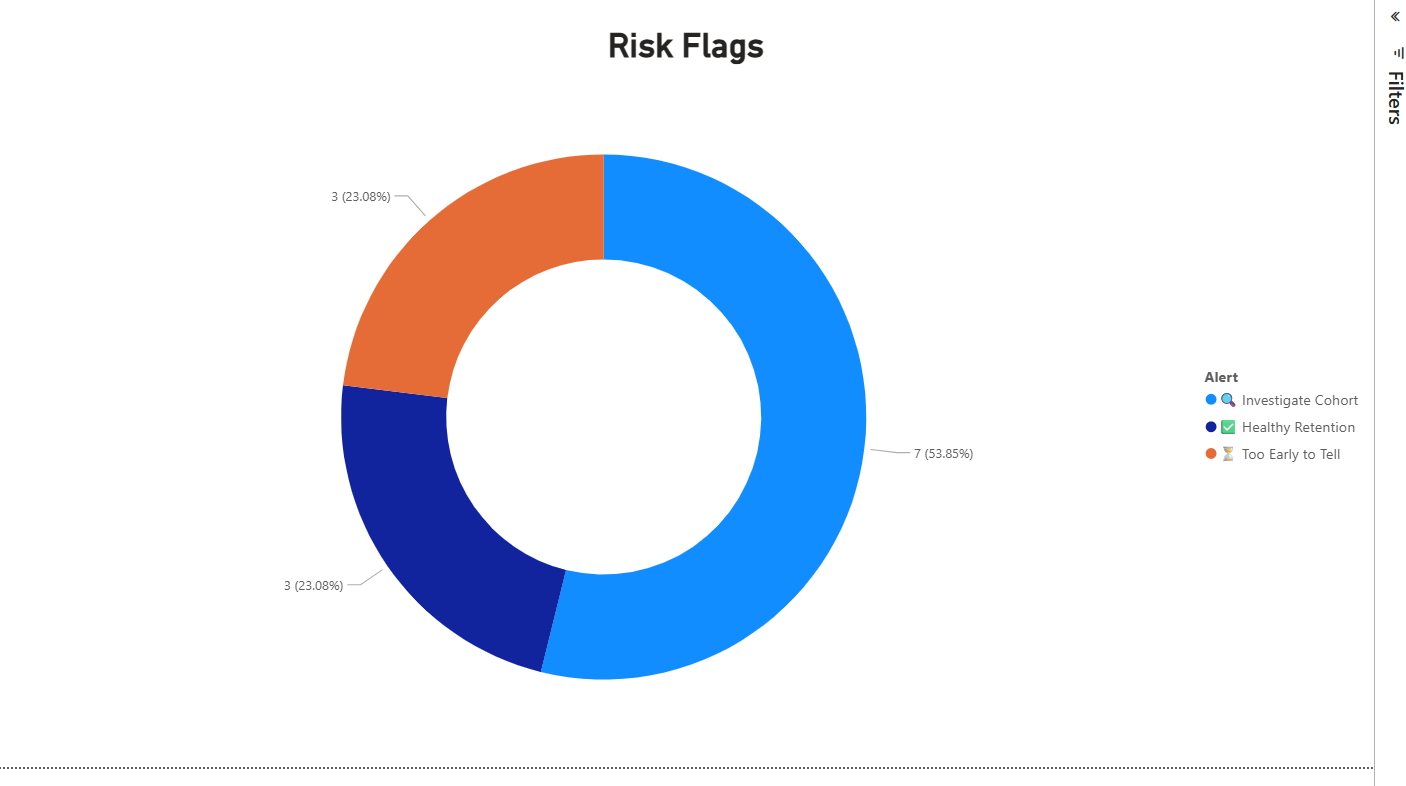

Layout of this report page (visuals, bound fields, positions):
{"tool":"powerbi","page":{"name":"Page 2","canvas":[1280,720],"ordinal":1},"visuals":[{"type":"pieChart","title":"Risk Flags","fields":{"Category":["Sheet1.Alert","Sheet1.ChurnFlag"],"Y":["CountNonNull(Sheet1.Percentage of Risk)"]},"box":[0,30.2,1280.2,689.5],"z":0}]}

Visuals, with their boxes on the page's 1280x720 design canvas (x1, y1, x2, y2). These are canvas units, not pixel positions in the 1406x786 screenshot, which may show the page scaled, cropped or inside an application window:
"Risk Flags" pieChart: box=[0, 30, 1280, 720]
